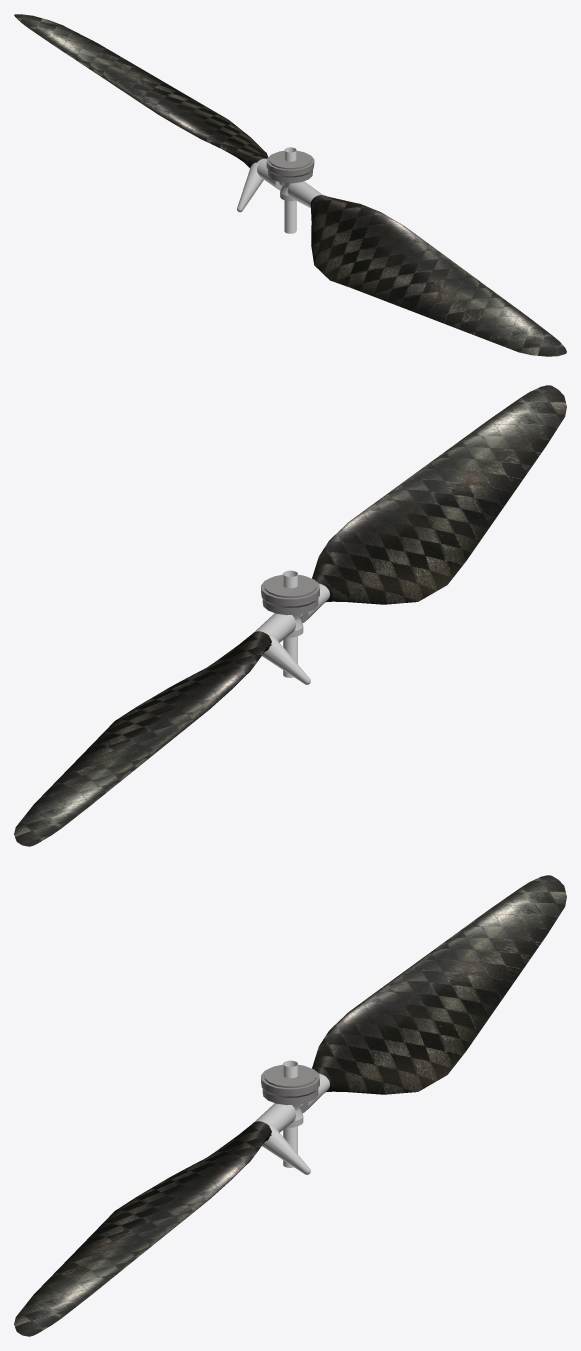
Rendered from rotor_up.dae.
The picture shows the model from 3 angles, top to bottom: view 1: azimuth 30°, elevation 25°; view 2: azimuth 150°, elevation 25°; view 3: azimuth 330°, elevation 25°; orthographic projection. The views are drawn at different scales.
Visible parts, largest first — view 1: rotors_01; view 2: rotors_01; view 3: rotors_01.
Part boxes in pixels (x1,y1,x2,y2): rotors_01: (14,14,566,356); rotors_01: (14,385,566,846); rotors_01: (14,875,566,1336).
Size of the model in its own units: 0.1253 by 1.21 by 0.1117.
